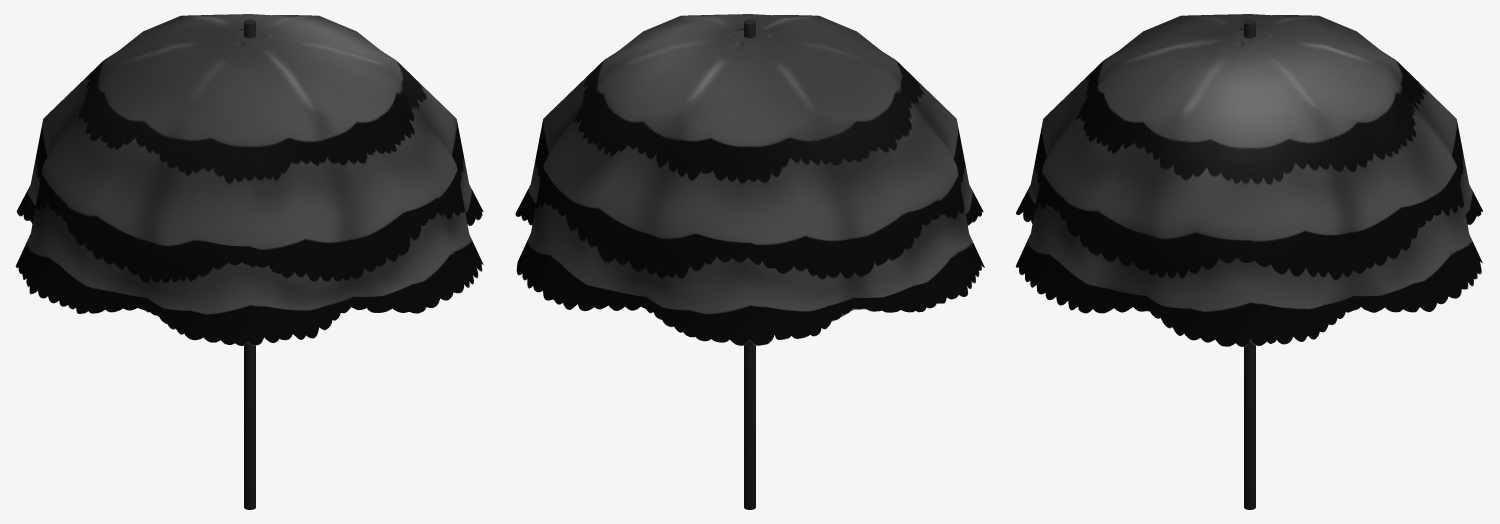
File: poison_umbrella_model.fbx
3 views of the same model, side by side, from view 1: azimuth 30°, elevation 25°; view 2: azimuth 150°, elevation 25°; view 3: azimuth 270°, elevation 25° (orthographic).
Parts seen in each view (by area): view 1: poison_umb; view 2: poison_umb; view 3: poison_umb.
Boxes of the visible parts, bbox=[...] form: poison_umb: bbox=[15, 14, 483, 509]; poison_umb: bbox=[515, 14, 984, 509]; poison_umb: bbox=[1015, 14, 1482, 509].
Bounding box in the file's own units: 6.11 × 6.47 × 5.7.
